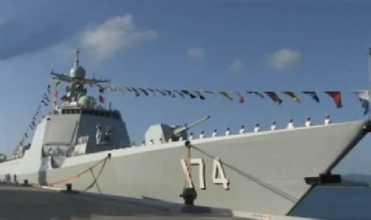warship: (1, 48, 371, 220)
